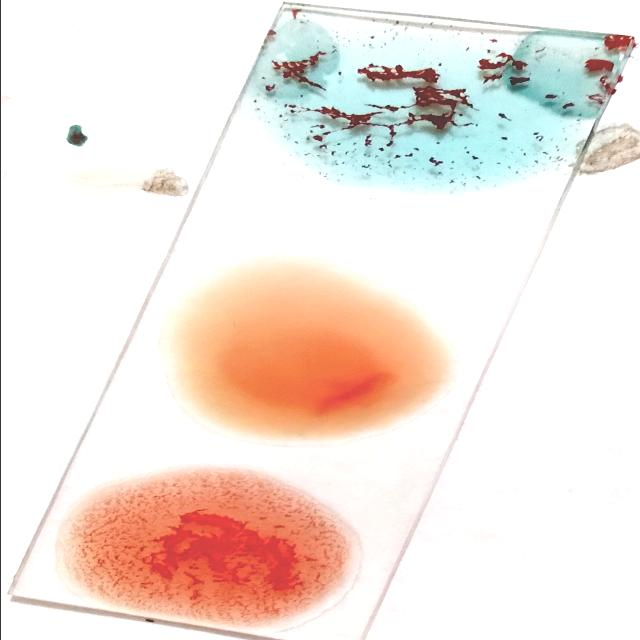A: (248, 21, 564, 198)
D: (89, 477, 352, 619)
